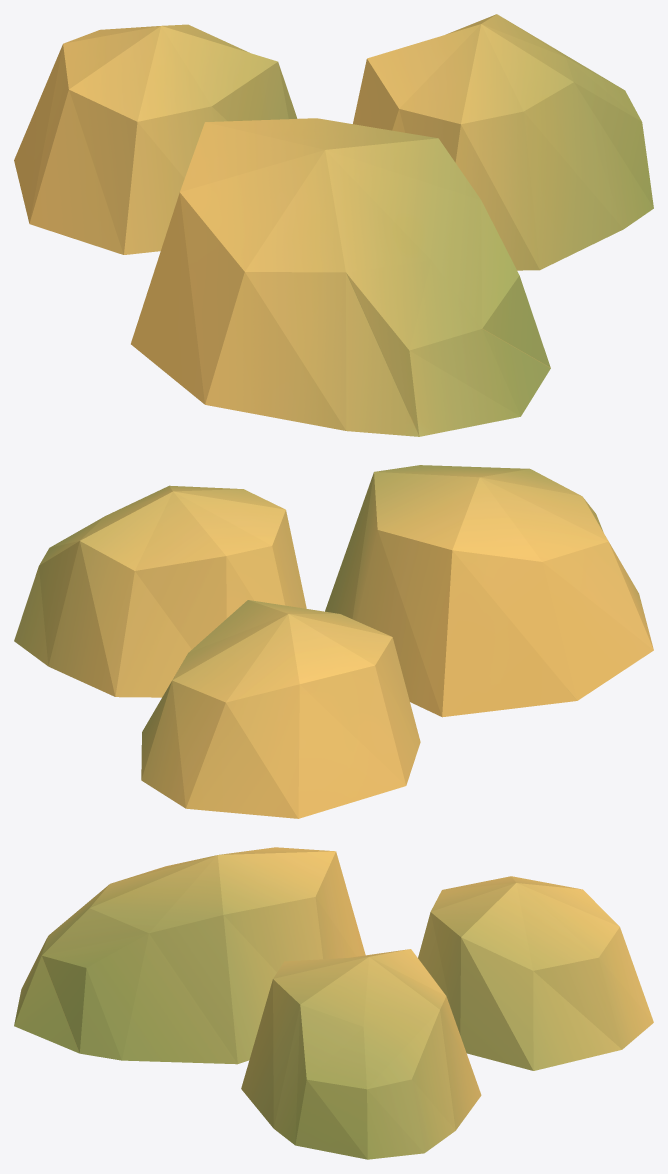
File: SM_APP_Gas_Rock_small_A.glb
The picture shows the model from 3 angles, top to bottom: view 1: azimuth 30°, elevation 25°; view 2: azimuth 150°, elevation 25°; view 3: azimuth 270°, elevation 25°; orthographic projection. The views are drawn at different scales.
Visible parts, largest first — view 1: SM_APP_Gas_Rock_small_A; view 2: SM_APP_Gas_Rock_small_A; view 3: SM_APP_Gas_Rock_small_A.
Boxes of the visible parts, bbox=[...] form: SM_APP_Gas_Rock_small_A: bbox=[14, 14, 653, 436]; SM_APP_Gas_Rock_small_A: bbox=[14, 465, 653, 818]; SM_APP_Gas_Rock_small_A: bbox=[14, 847, 653, 1159].
Bounding box in the file's own units: 5.77 × 1.79 × 7.12.
Materials: 1 (1 with a texture image).
